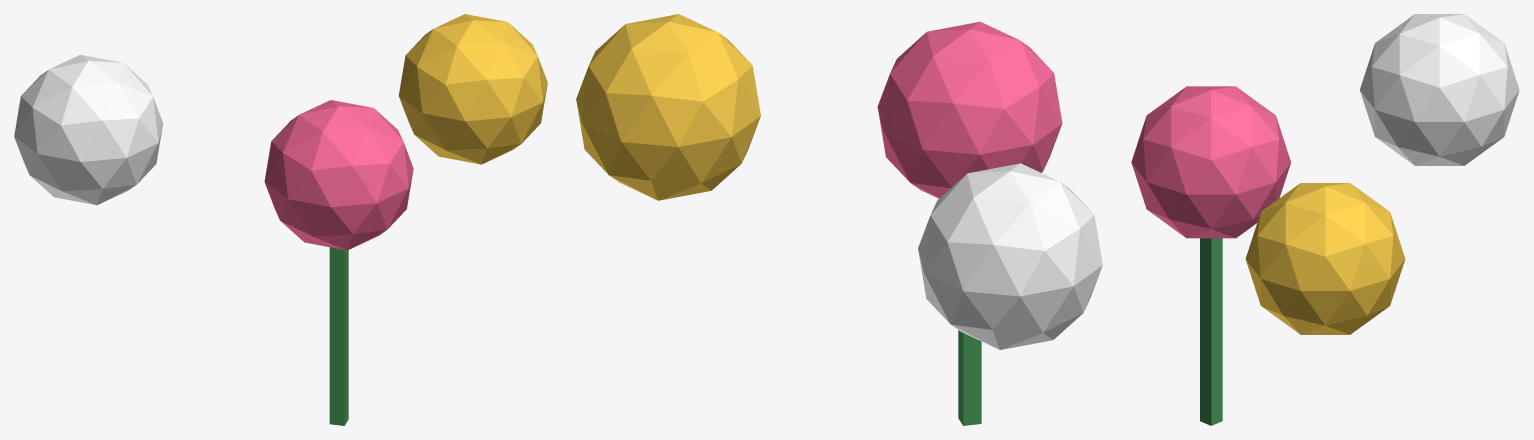
The model's file is Horse_Flowers.fbx.
3 renders of one model, left to right at view 1: azimuth 30°, elevation 25°; view 2: azimuth 150°, elevation 25°; view 3: azimuth 270°, elevation 25°, orthographic. The views are drawn at different scales.
Parts seen in each view (by area): view 1: Flowers; view 2: Flowers; view 3: Flowers.
Boxes of the visible parts, x1=… form: Flowers: x1=14, y1=14, x2=547, y2=425; Flowers: x1=576, y1=14, x2=1102, y2=425; Flowers: x1=1131, y1=14, x2=1519, y2=425.
Size of the model in its own units: 0.4831 by 0.32 by 0.34.
